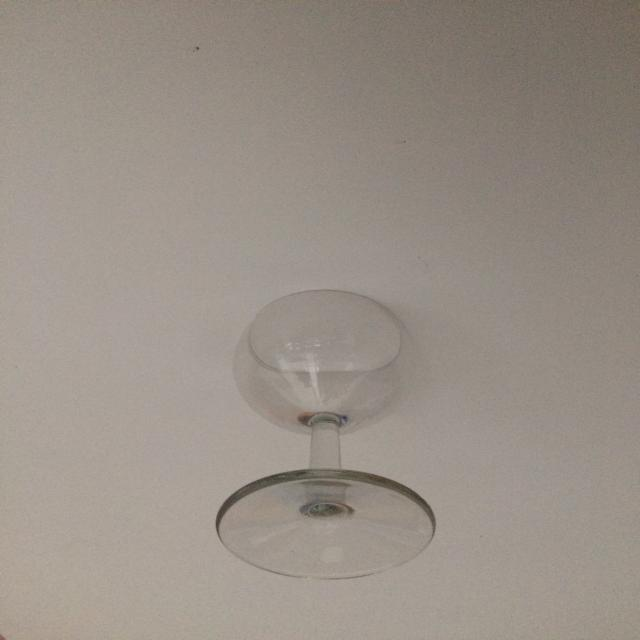glass: (215, 290, 438, 582)
